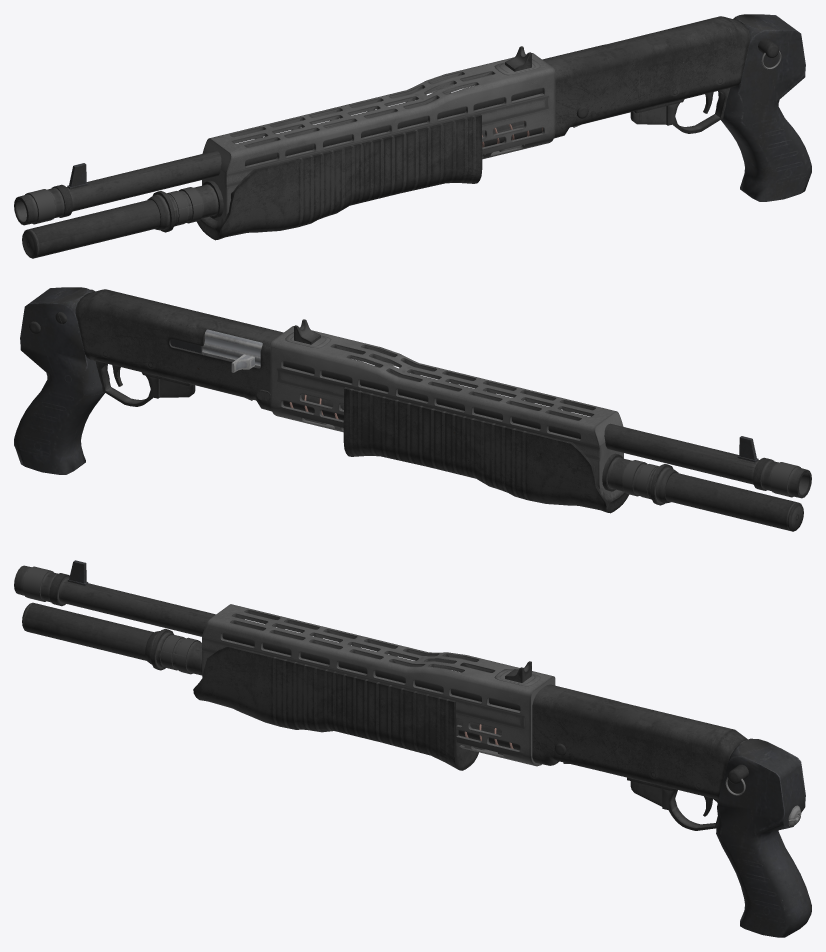
File: shot gun.fbx
3 views of the same model, one above another, from view 1: azimuth 30°, elevation 25°; view 2: azimuth 150°, elevation 25°; view 3: azimuth 330°, elevation 25° (orthographic).
Visible parts, largest first — view 1: defaultMaterial, defaultMaterial.001; view 2: defaultMaterial, defaultMaterial.001; view 3: defaultMaterial, defaultMaterial.001.
Part boxes in pixels (x1,y1,x2,y2): defaultMaterial: [196, 16, 750, 240]; defaultMaterial.001: [14, 14, 811, 258]; defaultMaterial: [75, 289, 629, 513]; defaultMaterial.001: [14, 287, 811, 531]; defaultMaterial: [193, 604, 747, 799]; defaultMaterial.001: [14, 560, 811, 937].
Bounding box in the file's own units: 744 × 182 × 68.68.
2 materials, 2 textured.
